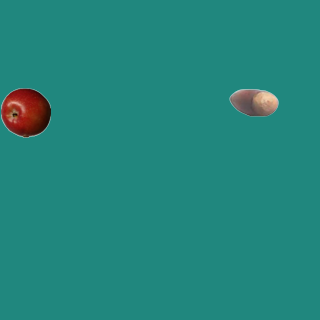Apple Braeburn: (0, 87, 50, 137)
Hazelnut: (228, 77, 278, 127)
